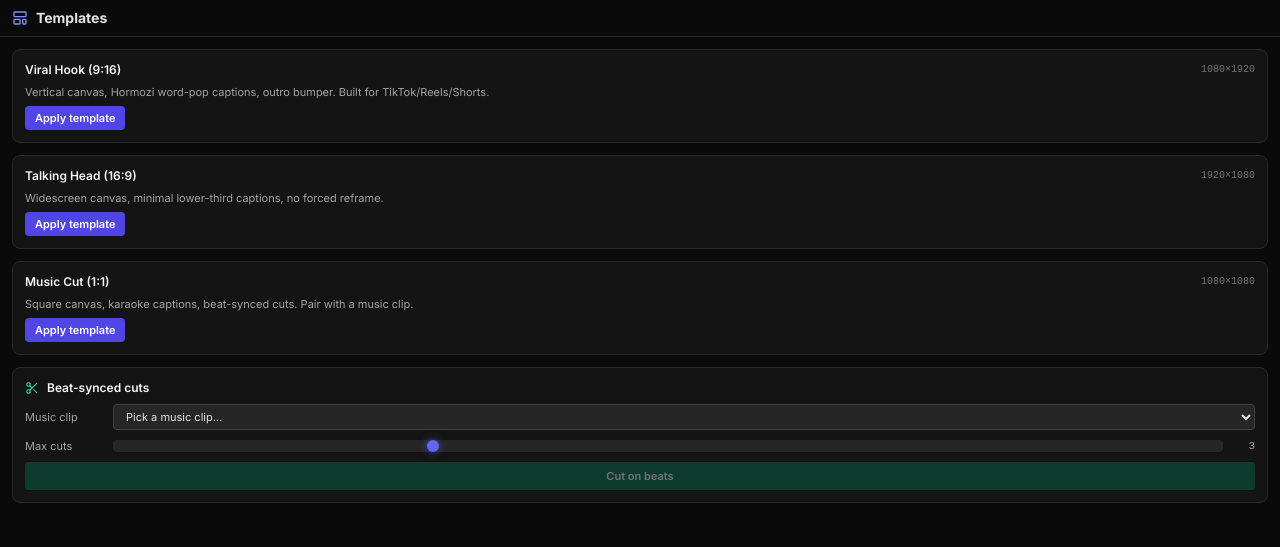
Test case: R25.4 — TemplateBrowser › reports decode failure without splitting
Select "Beat.mp3" in the dropdown named "Beat source clip": (684, 417) [113,404,1255,430]
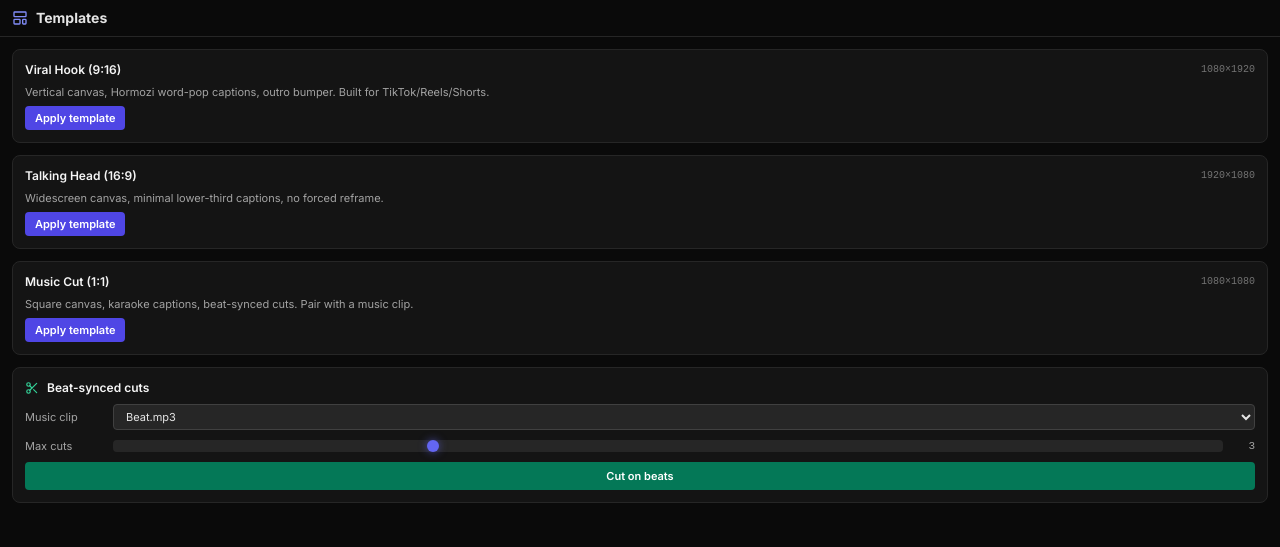
Click the button "Cut on beats": (640, 476) [25,462,1255,490]
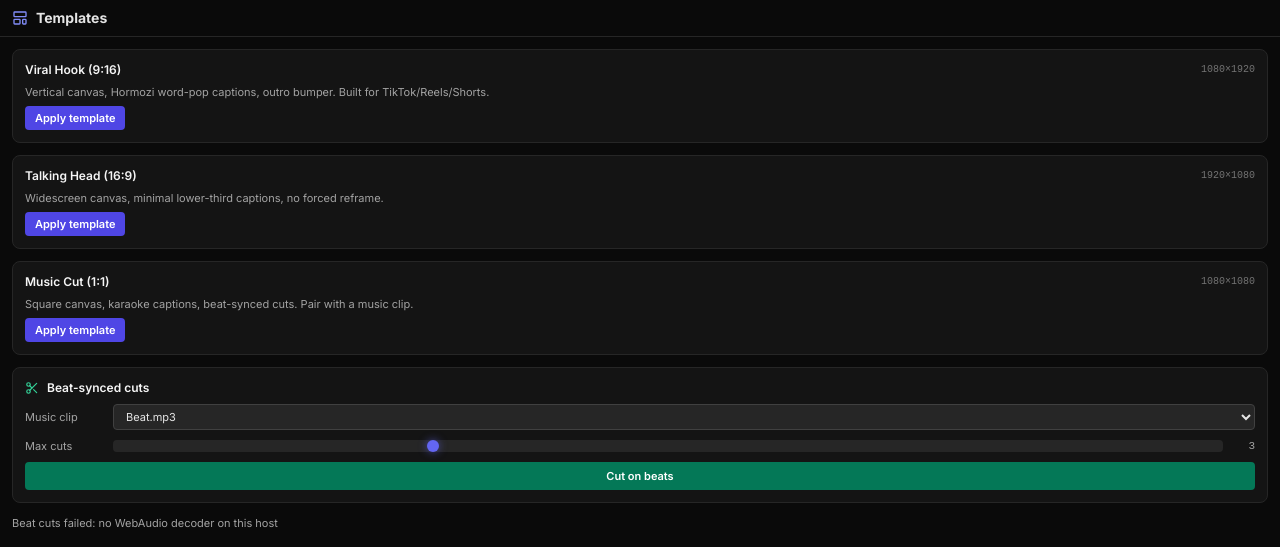
Check: the text "Beat cuts failed: no WebAudio decoder on this host" is shown, box [12,516,278,530]
